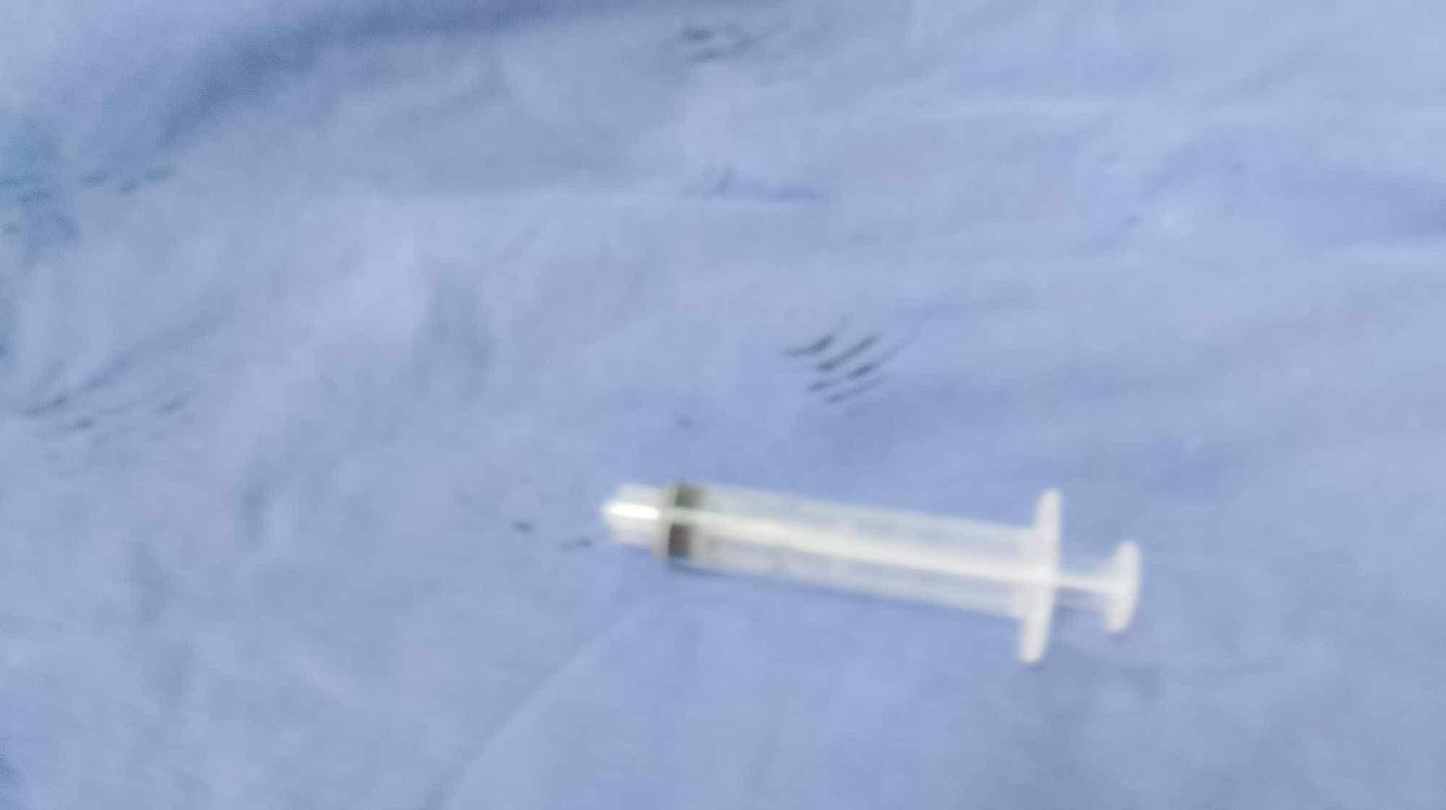General: (6, 4, 1438, 803)
Sharps: (601, 475, 1142, 665)
